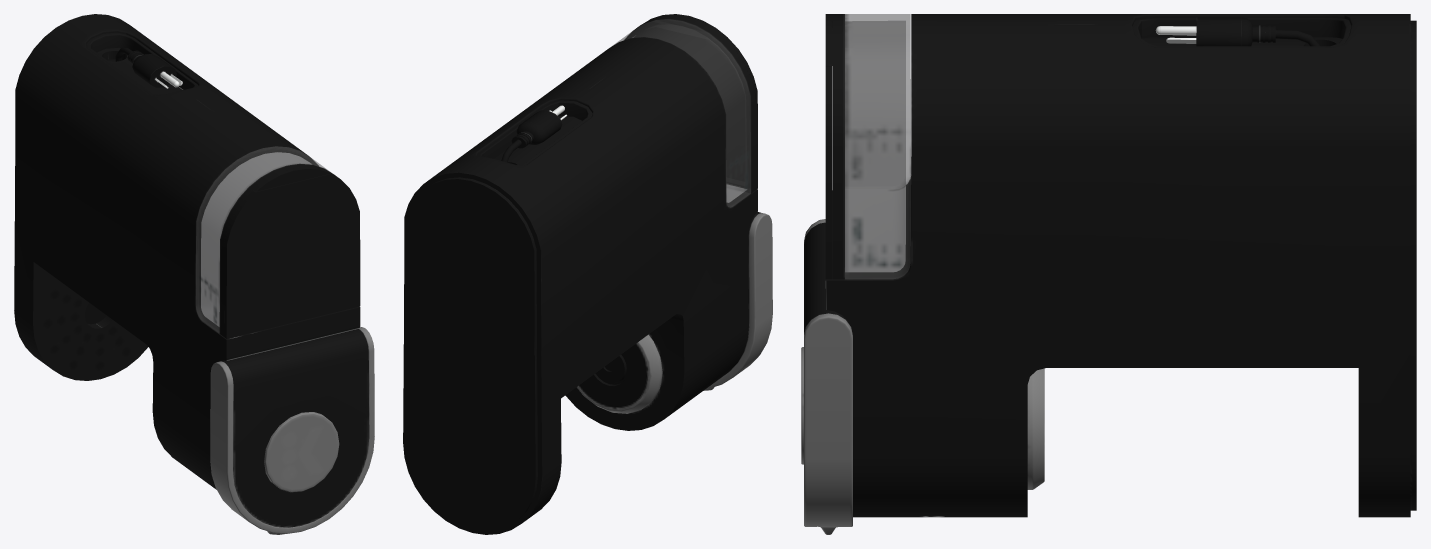
The model's file is coffe-maker-2416c2.glb.
3 views of the same model, side by side, from view 1: azimuth 30°, elevation 25°; view 2: azimuth 150°, elevation 25°; view 3: azimuth 270°, elevation 25° (orthographic). The views are drawn at different scales.
Visible parts, largest first — view 1: PropMesh; view 2: PropMesh; view 3: PropMesh.
Boxes of the visible parts, box(x1,y1,x2,y2) form: PropMesh: box(14, 14, 374, 534); PropMesh: box(403, 14, 772, 534); PropMesh: box(801, 14, 1416, 534).
Bounding box in the file's own units: 0.1472 × 0.35 × 0.3843.
1 material, 1 textured.
